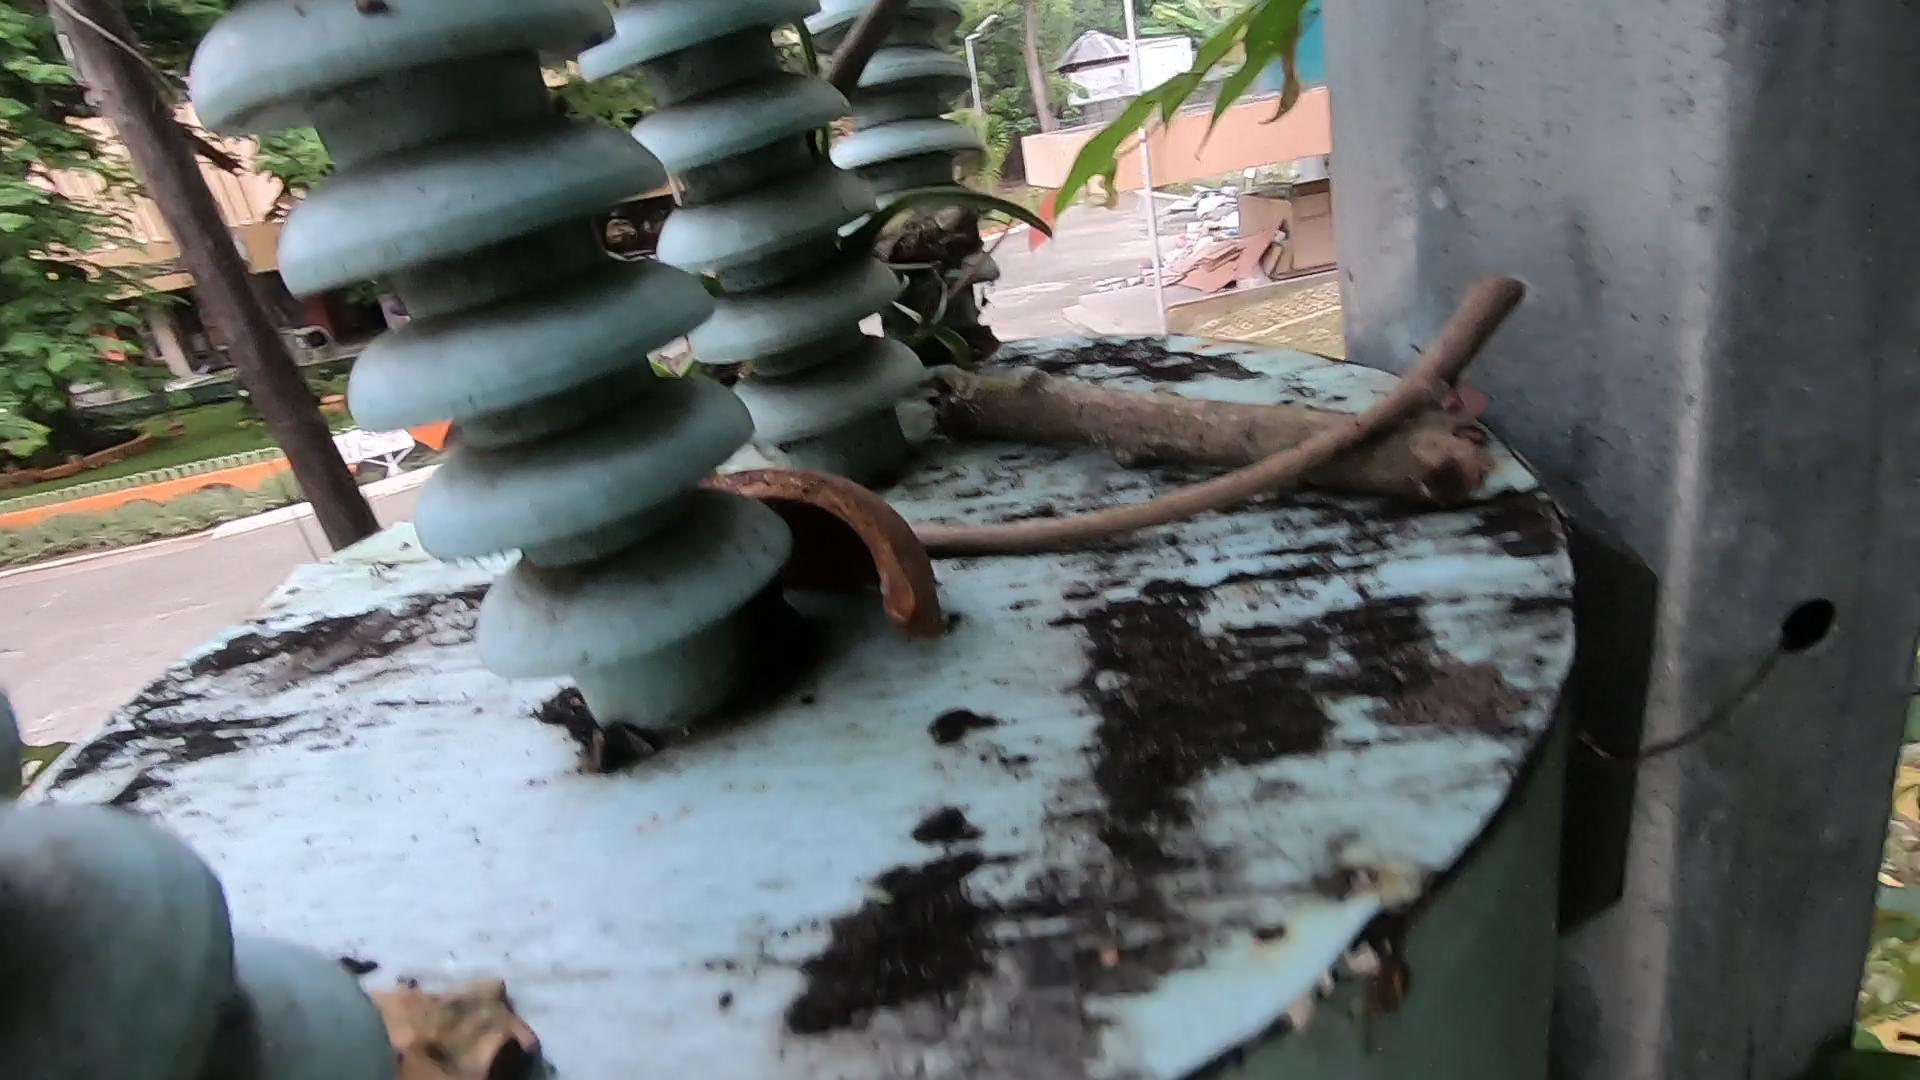branch with leaves: (791, 140, 1582, 546)
leaf: (353, 948, 632, 1080), (1362, 357, 1535, 496)
mahogany fruit: (628, 417, 1149, 800)
tree branch: (906, 272, 1557, 582), (723, 1, 876, 175)
